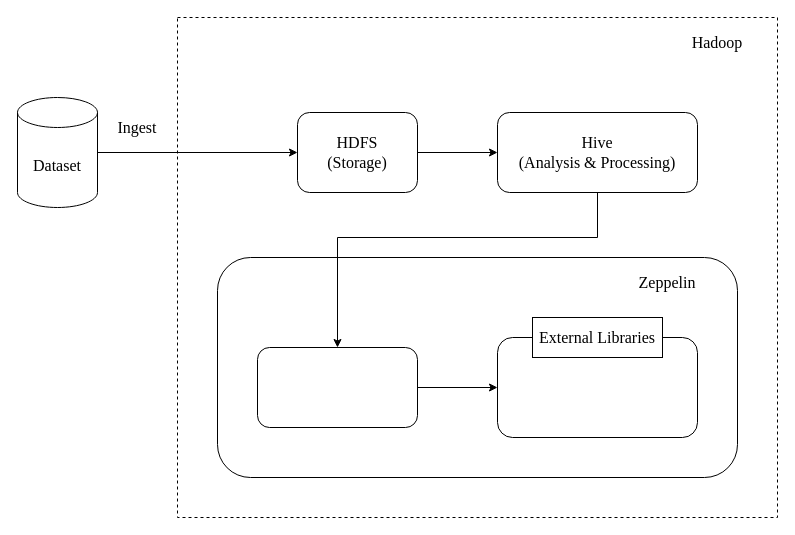
The diagram is 795 pixels wide and 535 high, and some of its shapes have lost their labels. Here are the shapes that lost their labels. From the top down, the box of each, then its label:
(256, 346, 418, 428): Spark (Machine Learning)
(496, 336, 698, 438): Matplotlib & Seaborn (Visualization)
